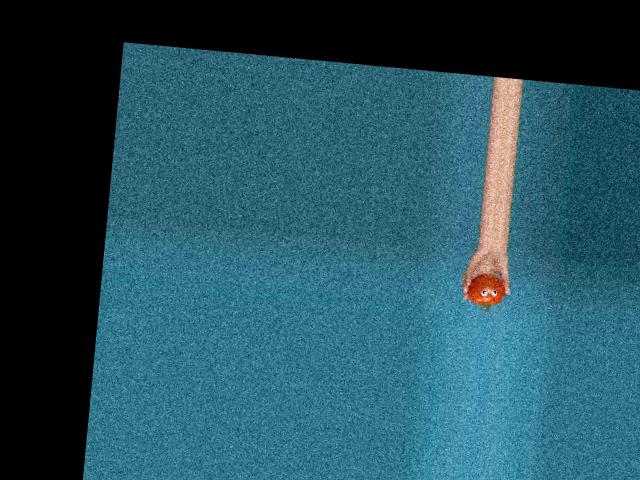tomato: (466, 271, 507, 307)
